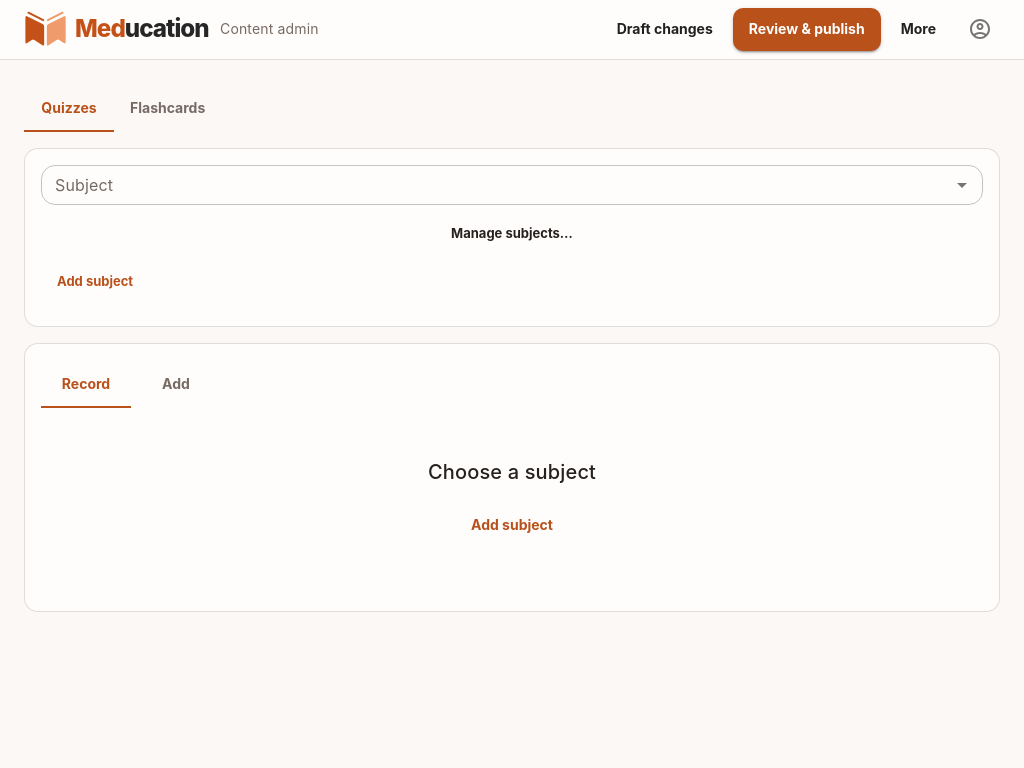
Test case: lists recent changes with Revert, which restores the record and refreshes the list
The width and height of the screenshot is (1024, 768).
Expected: the tab "Quizzes" is shown, [24, 84, 114, 132]
Click the button "More".
click(918, 29)  # box [885, 8, 952, 50]
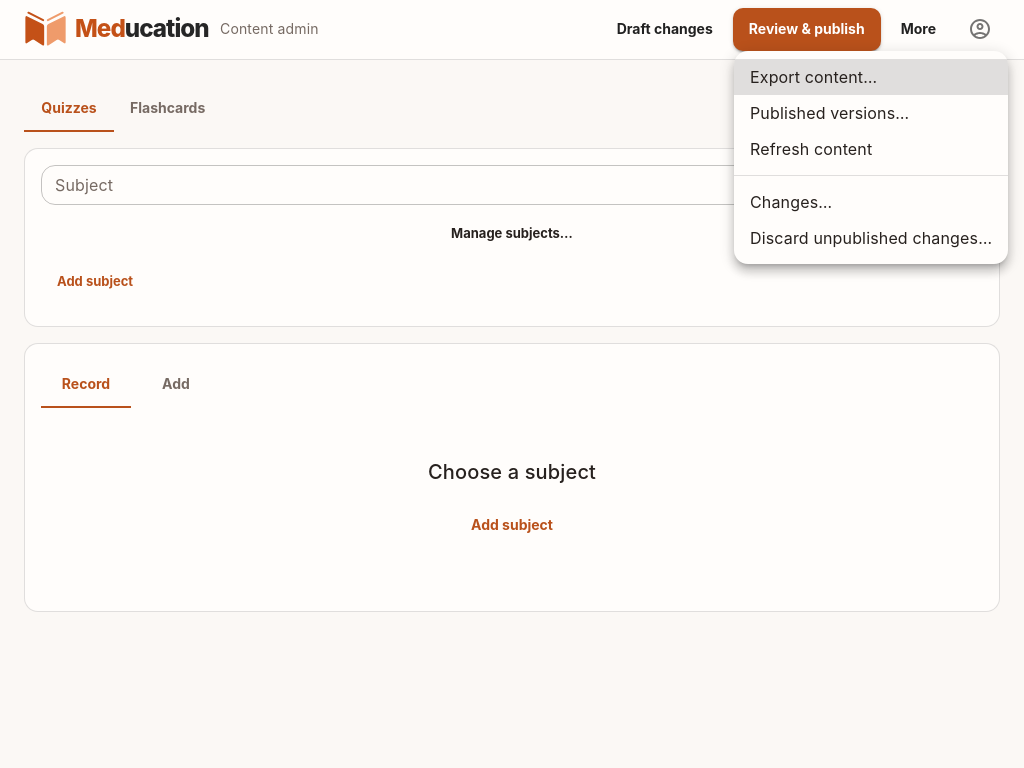
Click the menu item "Changes…".
click(791, 202)  # box [750, 192, 832, 212]
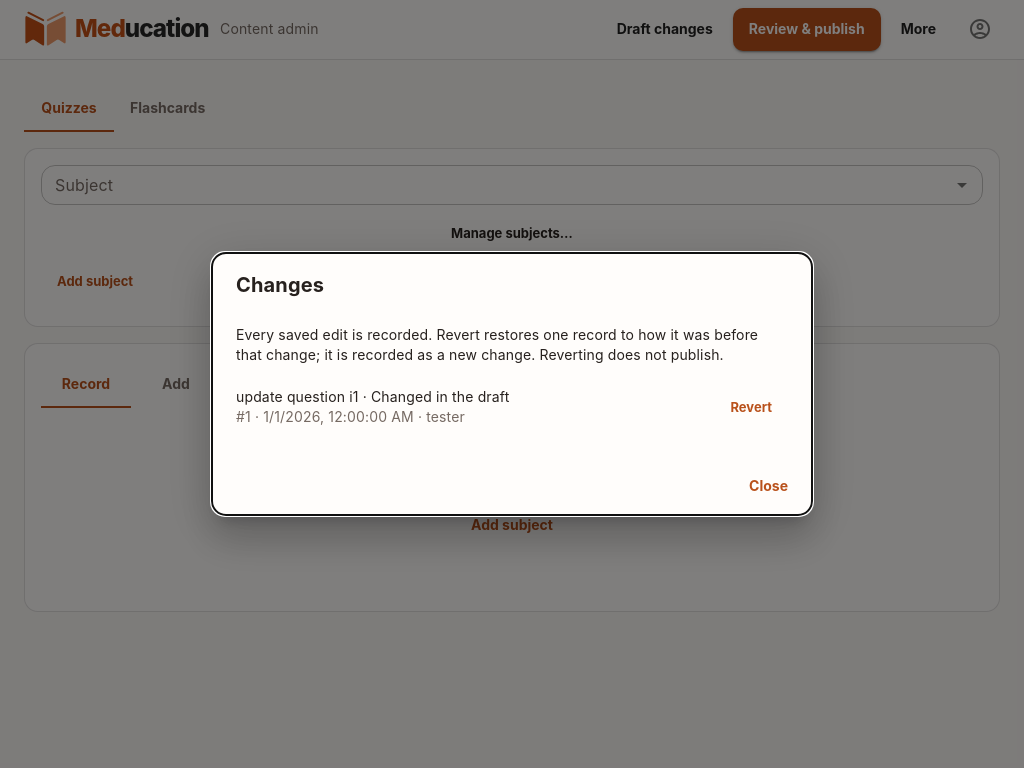
Now the text "update question i1 · Changed in the draft" is shown, box [236, 388, 509, 405]
Click the button with aria-label "Revert change 1".
click(751, 407)  # box [714, 386, 788, 427]
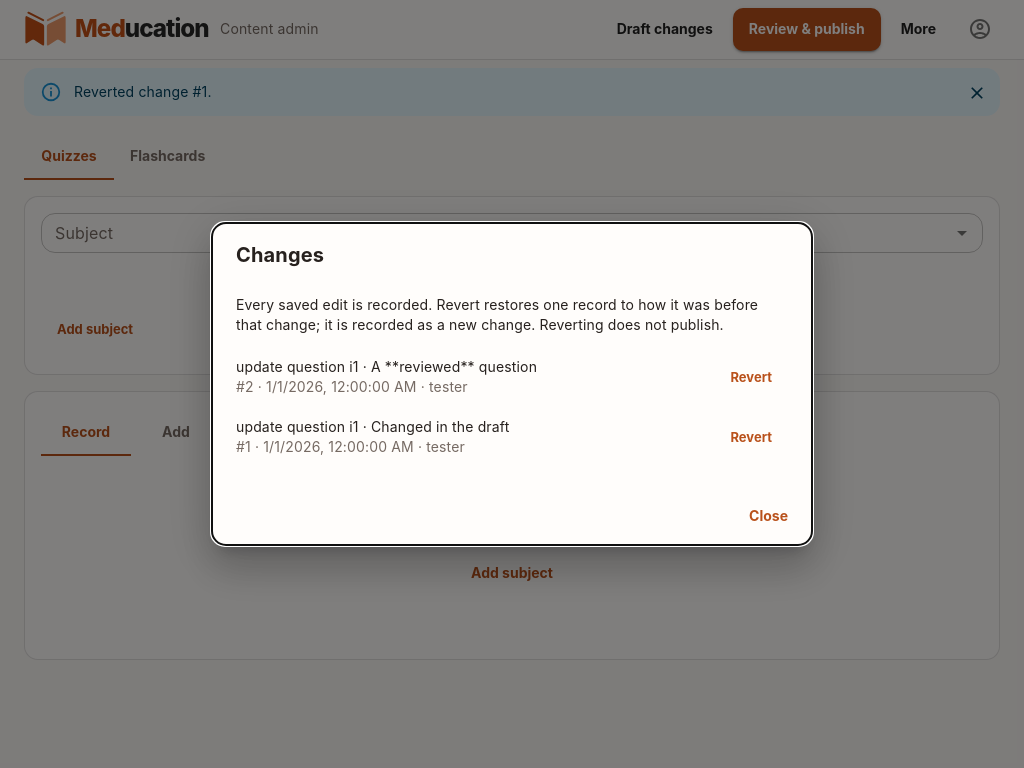
Now the text "Reverted change #1." is shown, box [74, 82, 212, 100]
Now the text "#2 · 1/1/2026, 12:00:00 AM · tester" is shown, box [236, 378, 468, 395]
